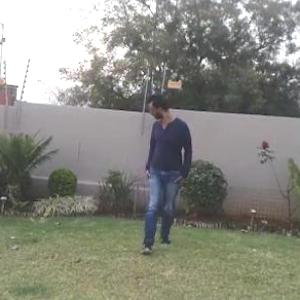follow: (131, 81, 191, 273)
